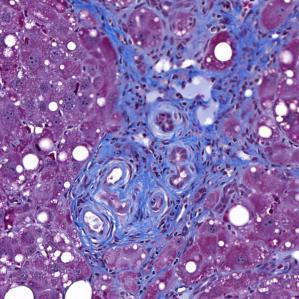fibrosis: (113, 40, 257, 158), (79, 142, 229, 236)
